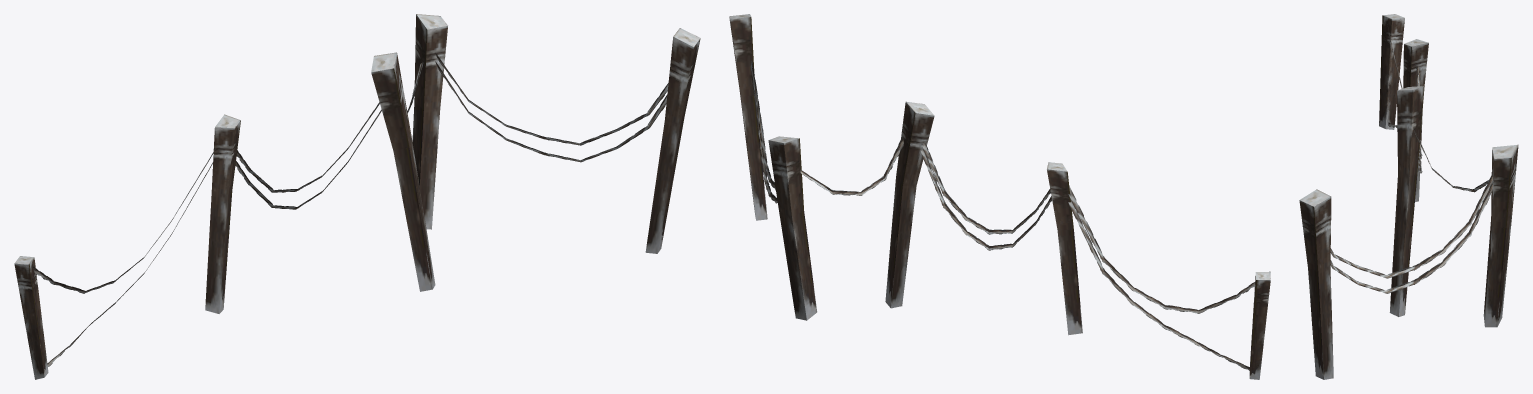
The model's file is 2005_Item_mutou_4.FBX.
3 renders of one model, left to right at view 1: azimuth 30°, elevation 25°; view 2: azimuth 150°, elevation 25°; view 3: azimuth 270°, elevation 25°, orthographic. The views are drawn at different scales.
Visible parts, largest first — view 1: 2005_Item_mutou_4; view 2: 2005_Item_mutou_4; view 3: 2005_Item_mutou_4.
Boxes of the visible parts, left/top/right/bottom form: 2005_Item_mutou_4: left=14, top=14, right=700, bottom=379; 2005_Item_mutou_4: left=729, top=14, right=1270, bottom=379; 2005_Item_mutou_4: left=1299, top=14, right=1518, bottom=379.
Bounding box in the file's own units: 292 × 103 × 94.83.
